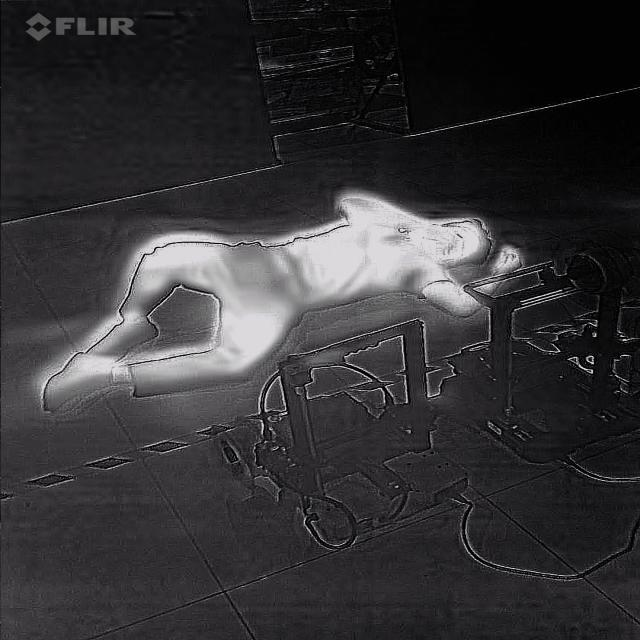Victim: (28, 188, 533, 420)
